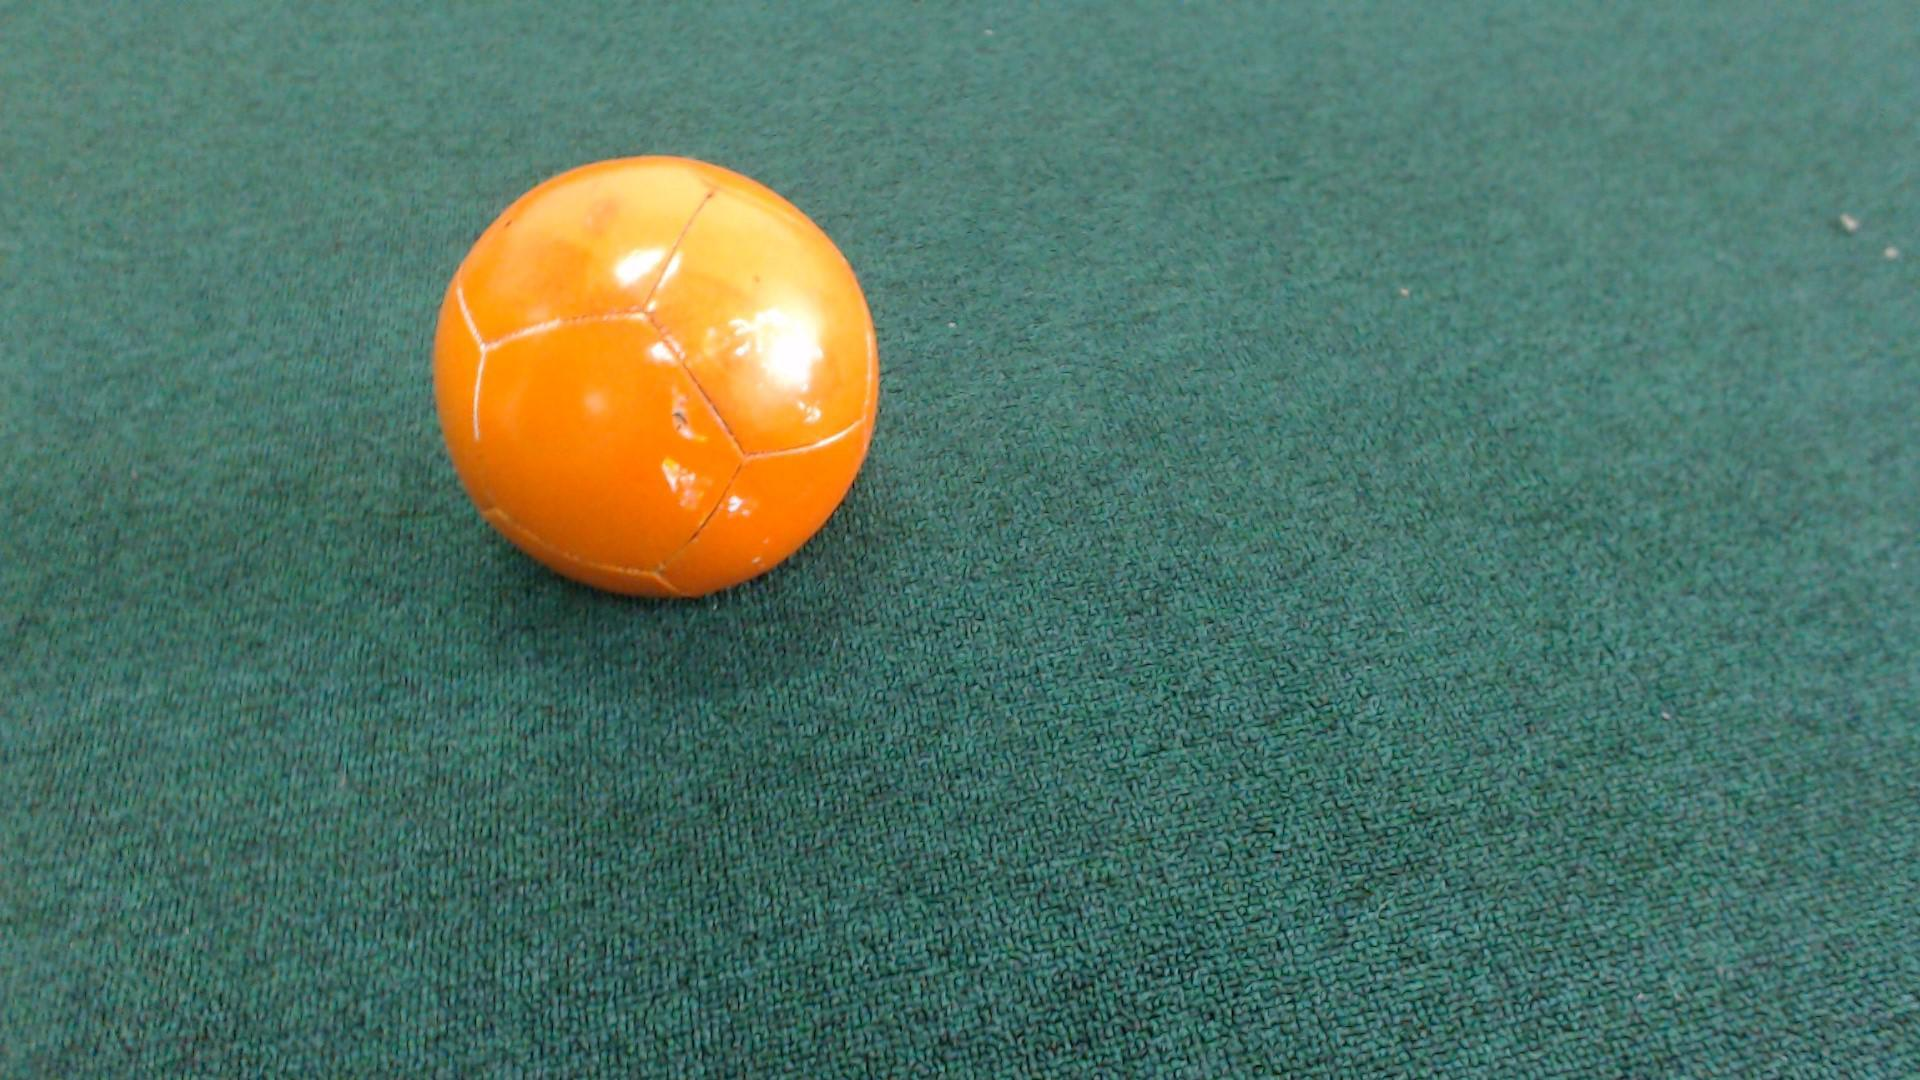bola: (425, 145, 886, 630)
